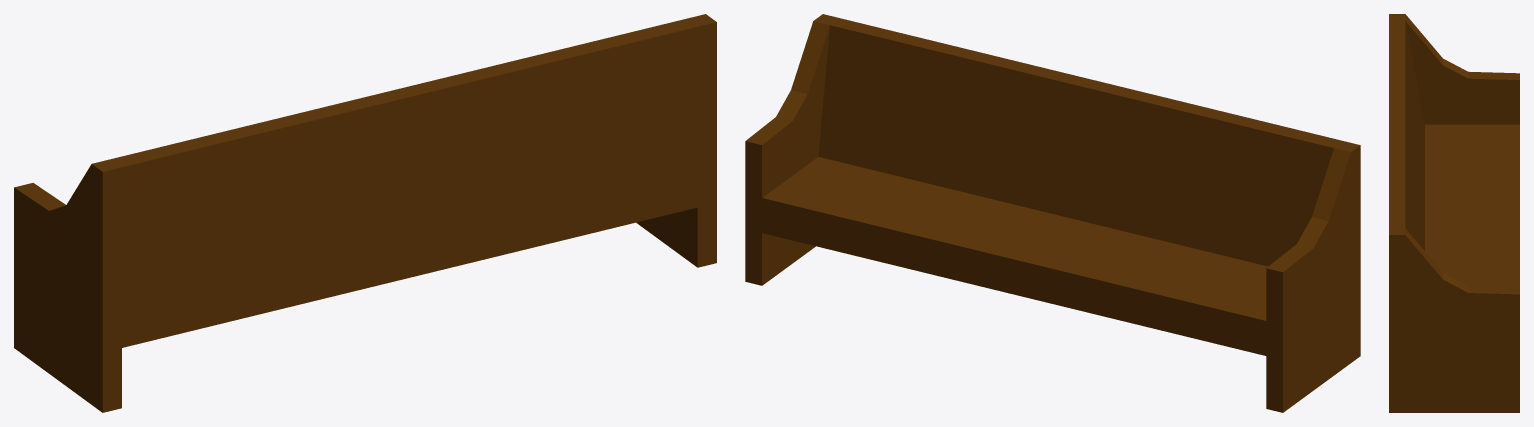
The model's file is Pew.fbx.
3 renders of one model, left to right at view 1: azimuth 30°, elevation 25°; view 2: azimuth 150°, elevation 25°; view 3: azimuth 270°, elevation 25°, orthographic. The views are drawn at different scales.
Parts seen in each view (by area): view 1: Cube; view 2: Cube; view 3: Cube.
Part boxes in pixels (box(x1,y1,x2,y2)): Cube: box(14, 14, 716, 412); Cube: box(745, 14, 1360, 412); Cube: box(1389, 14, 1519, 412).
Size of the model in its own units: 800 by 300 by 200.
